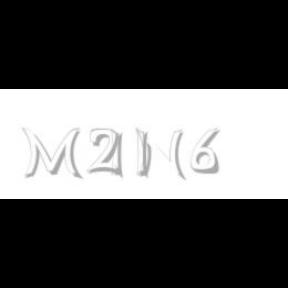2: (86, 128, 120, 176)
6: (190, 128, 220, 176)
I: (110, 128, 124, 180)
M: (22, 128, 80, 180)
N: (136, 128, 184, 180)
l: (136, 128, 152, 180)
